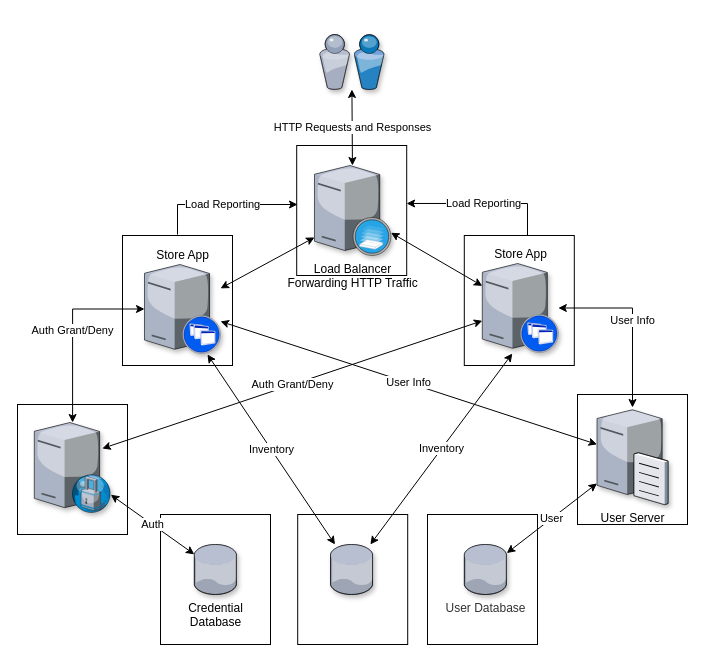
Image size: 705x662. Some labels were removed from this diagram. Each missing label, with the centre of its shape:
Auth Server: the point at 73,468
Inventory Database: the point at 352,570
Users: the point at 352,63
